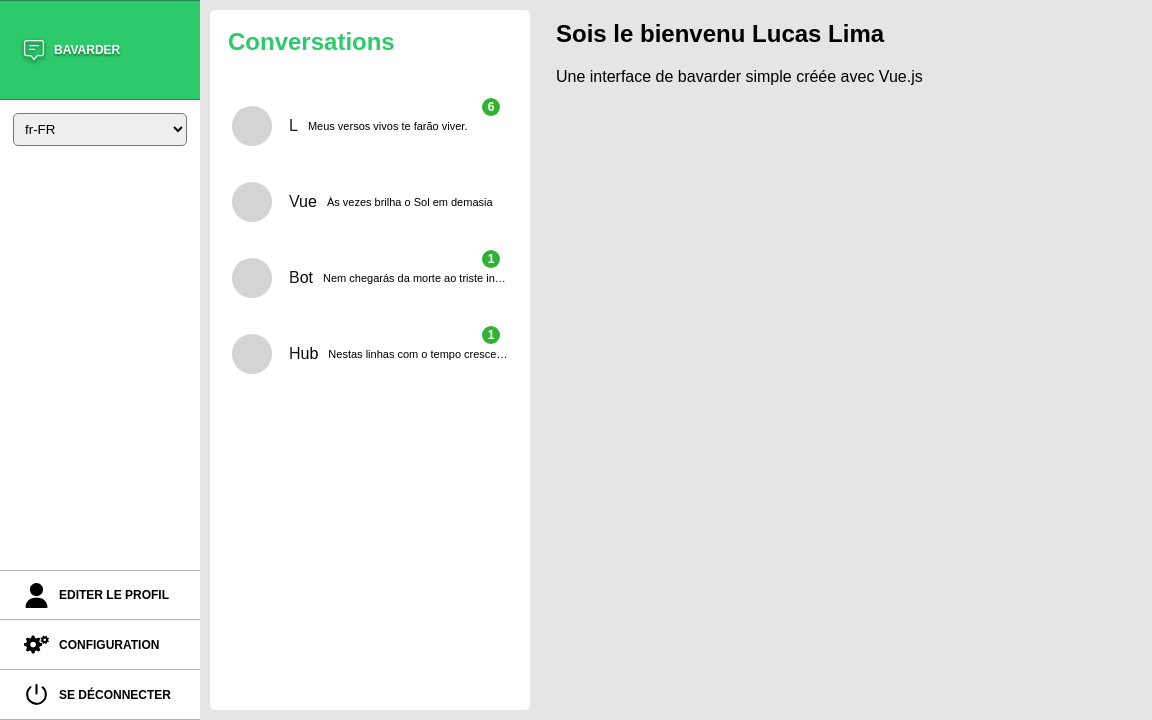
Test: Validar Textos menu e Bem-vindo › Benvenuto
Select "it-IT" in the dropdown with class "languages" at (100, 129), box [13,113,186,145]
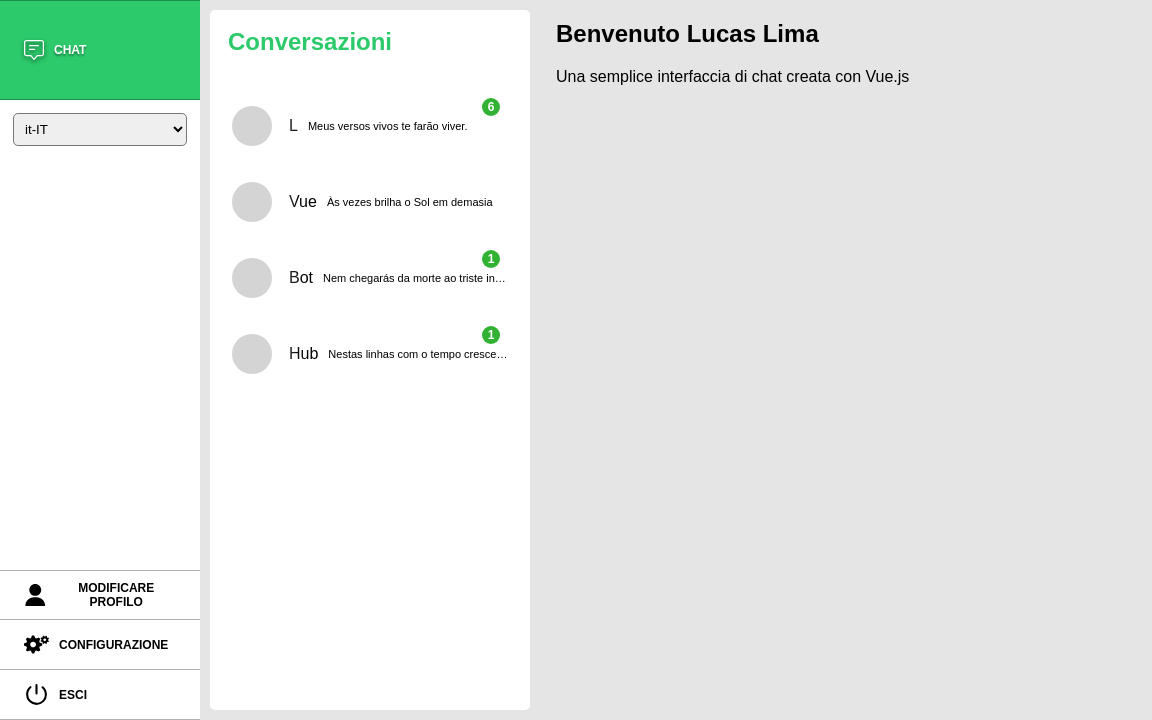
Result: the button "CHAT" is shown at [0,0,200,100]
Result: the button "Modificare profilo" is shown at [0,570,200,620]
Result: the button "Configurazione" is shown at [0,620,200,670]
